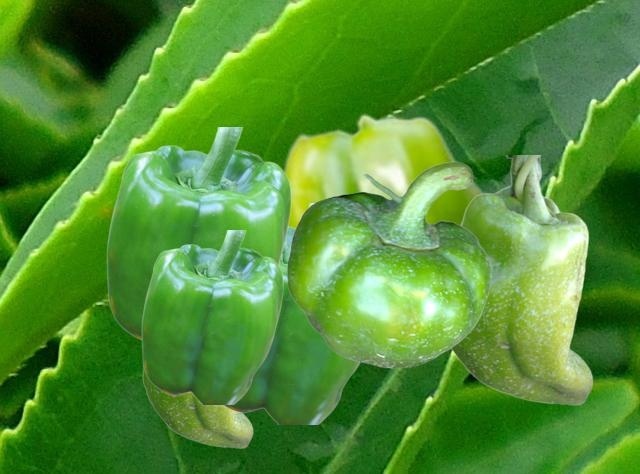bell_pepper: (287, 161, 490, 367), (106, 127, 290, 340), (451, 155, 592, 404), (221, 203, 360, 423), (141, 230, 282, 403), (281, 113, 485, 226), (142, 366, 252, 447)
